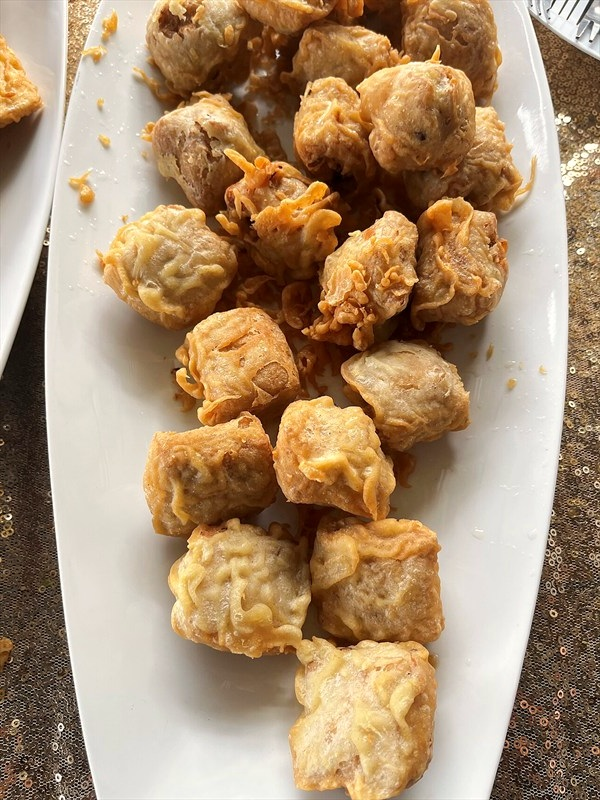Tahu Goreng: (95, 45, 490, 668)
